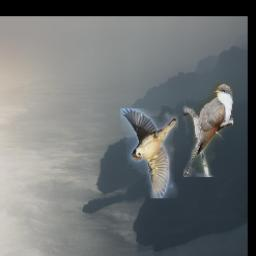Cuckoo: (183, 84, 233, 178)
Sparrow: (120, 109, 178, 199)
